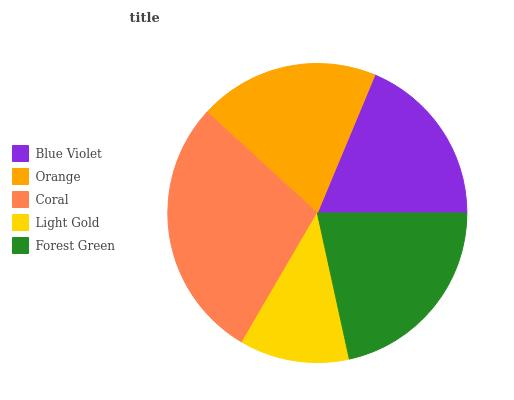legend: (0, 139, 123, 264)
sector: (166, 112, 318, 343), (207, 62, 373, 213), (317, 213, 464, 359), (316, 73, 468, 214), (242, 213, 348, 363)
